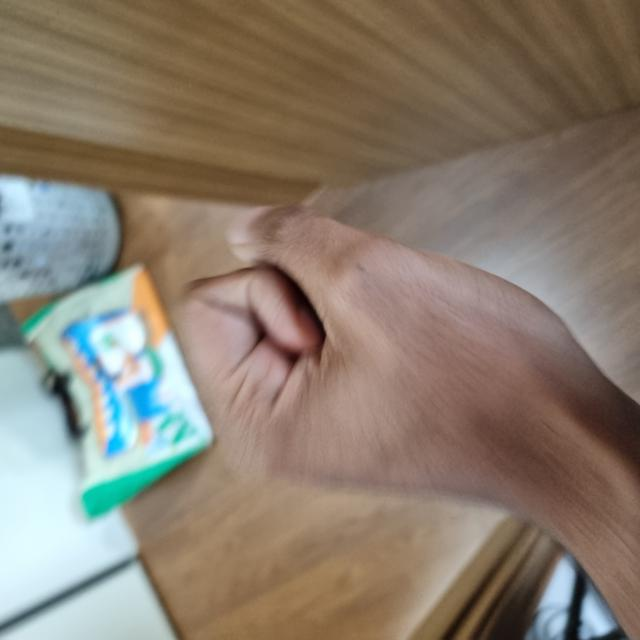Rock: (118, 171, 432, 611)
